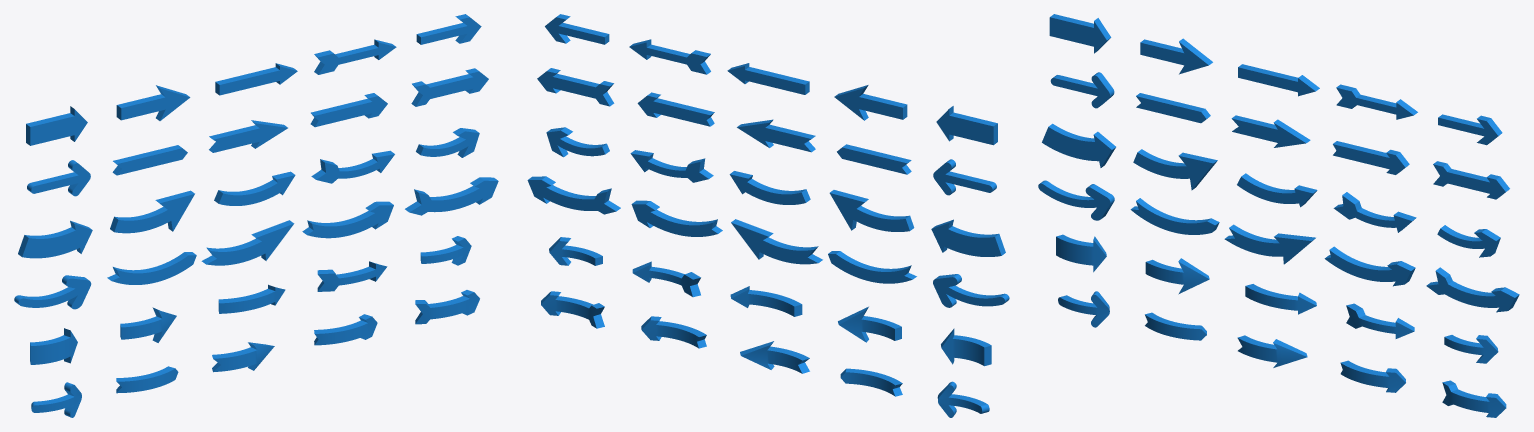
File: Arrows.glb
The picture shows the model from 3 angles, left to right: view 1: azimuth 30°, elevation 25°; view 2: azimuth 150°, elevation 25°; view 3: azimuth 330°, elevation 25°; orthographic projection.
Parts seen in each view (by area): view 1: Arrow18, Arrow11, Arrow12, Arrow20, Arrow19, Arrow01, Arrow10, Arrow02, Arrow17, Arrow08, Arrow16, Arrow09 (+18 smaller); view 2: Arrow18, Arrow11, Arrow20, Arrow12, Arrow19, Arrow01, Arrow10, Arrow17, Arrow02, Arrow08, Arrow16, Arrow09 (+18 smaller); view 3: Arrow11, Arrow20, Arrow18, Arrow12, Arrow19, Arrow01, Arrow17, Arrow10, Arrow02, Arrow08, Arrow16, Arrow09 (+18 smaller).
Boxes of the visible parts, box(x1,y1,x2,y2) form: Arrow18: box(201, 220, 294, 265); Arrow11: box(18, 220, 92, 258); Arrow12: box(110, 190, 194, 233); Arrow20: box(405, 177, 498, 215); Arrow19: box(302, 201, 393, 238); Arrow01: box(26, 106, 87, 145); Arrow10: box(411, 68, 488, 106); Arrow02: box(116, 85, 190, 120); Arrow17: box(107, 252, 196, 284); Arrow08: box(209, 120, 287, 152); Arrow16: box(14, 275, 91, 309); Arrow09: box(310, 93, 387, 127); Arrow18: box(731, 219, 822, 264); Arrow11: box(931, 219, 1005, 256); Arrow20: box(527, 176, 620, 214); Arrow12: box(829, 190, 914, 231); Arrow19: box(631, 200, 722, 236); Arrow01: box(936, 106, 997, 145); Arrow10: box(537, 68, 614, 106); Arrow17: box(828, 251, 916, 283); Arrow02: box(834, 85, 907, 120); Arrow08: box(737, 119, 815, 152); Arrow16: box(933, 274, 1009, 307); Arrow09: box(637, 92, 714, 126); Arrow11: box(1042, 123, 1115, 167); Arrow20: box(1426, 267, 1519, 312); Arrow18: box(1224, 224, 1315, 264); Arrow12: box(1133, 149, 1217, 190); Arrow19: box(1324, 246, 1415, 286); Arrow01: box(1049, 14, 1111, 53); Arrow17: box(1130, 198, 1219, 234); Arrow10: box(1433, 161, 1509, 199); Arrow02: box(1140, 38, 1212, 74); Arrow08: box(1231, 115, 1310, 147); Arrow16: box(1038, 180, 1114, 220); Arrow09: box(1333, 141, 1409, 174).
Bounding box in the file's own units: 2.25 × 1.39 × 0.0928.
